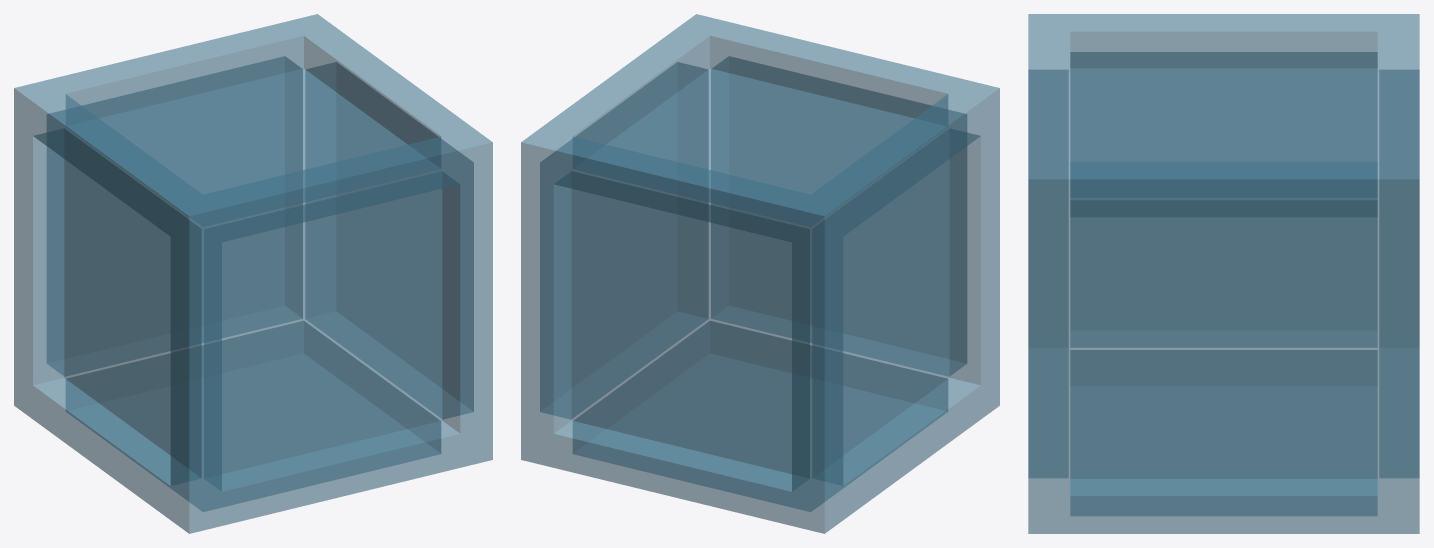
3 views of the same model, side by side, from view 1: azimuth 30°, elevation 25°; view 2: azimuth 150°, elevation 25°; view 3: azimuth 270°, elevation 25° (orthographic). The views are drawn at different scales.
Visible parts, largest first — view 1: cube; view 2: cube; view 3: cube.
Part boxes in pixels (x1,y1,x2,y2): cube: (14, 14, 492, 533); cube: (521, 14, 999, 533); cube: (1028, 14, 1419, 533).
Size of the model in its own units: 1.98 by 1.98 by 1.98.
1 material, 1 textured.
